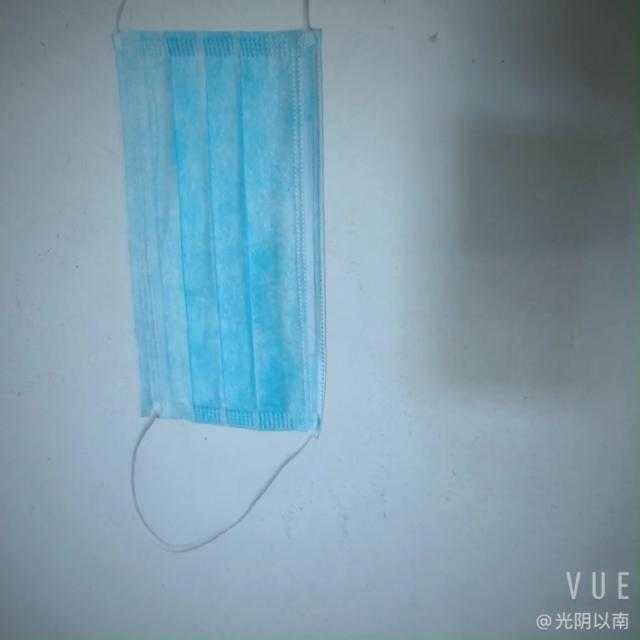face mask: (112, 22, 330, 446)
